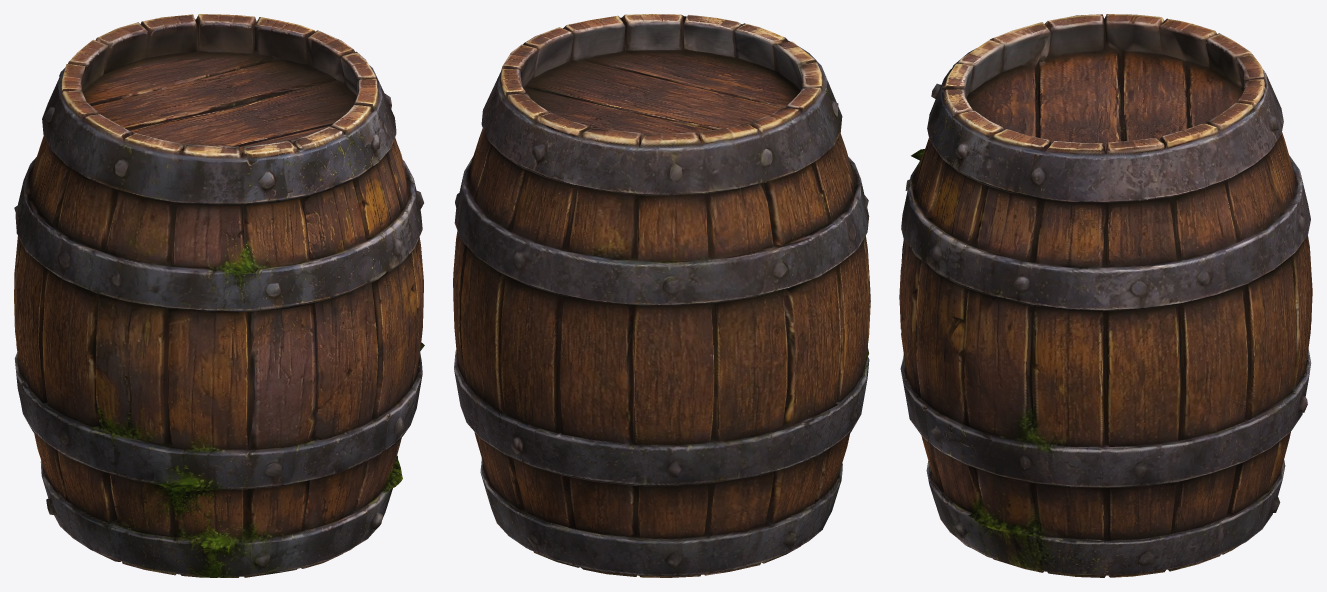
The model's file is gen_barrel.glb.
3 views of the same model, side by side, from view 1: azimuth 30°, elevation 25°; view 2: azimuth 150°, elevation 25°; view 3: azimuth 270°, elevation 25° (orthographic).
Parts seen in each view (by area): view 1: tripo_node_9c733a2c-ee66-46ce-b84b-467d03f6ce23; view 2: tripo_node_9c733a2c-ee66-46ce-b84b-467d03f6ce23; view 3: tripo_node_9c733a2c-ee66-46ce-b84b-467d03f6ce23.
Part boxes in pixels (x1,y1,x2,y2): tripo_node_9c733a2c-ee66-46ce-b84b-467d03f6ce23: (14,14,424,577); tripo_node_9c733a2c-ee66-46ce-b84b-467d03f6ce23: (453,14,870,577); tripo_node_9c733a2c-ee66-46ce-b84b-467d03f6ce23: (899,14,1312,577).
Size of the model in its own units: 0.846 by 0.9799 by 0.847.
Materials: 1 (1 with a texture image).
